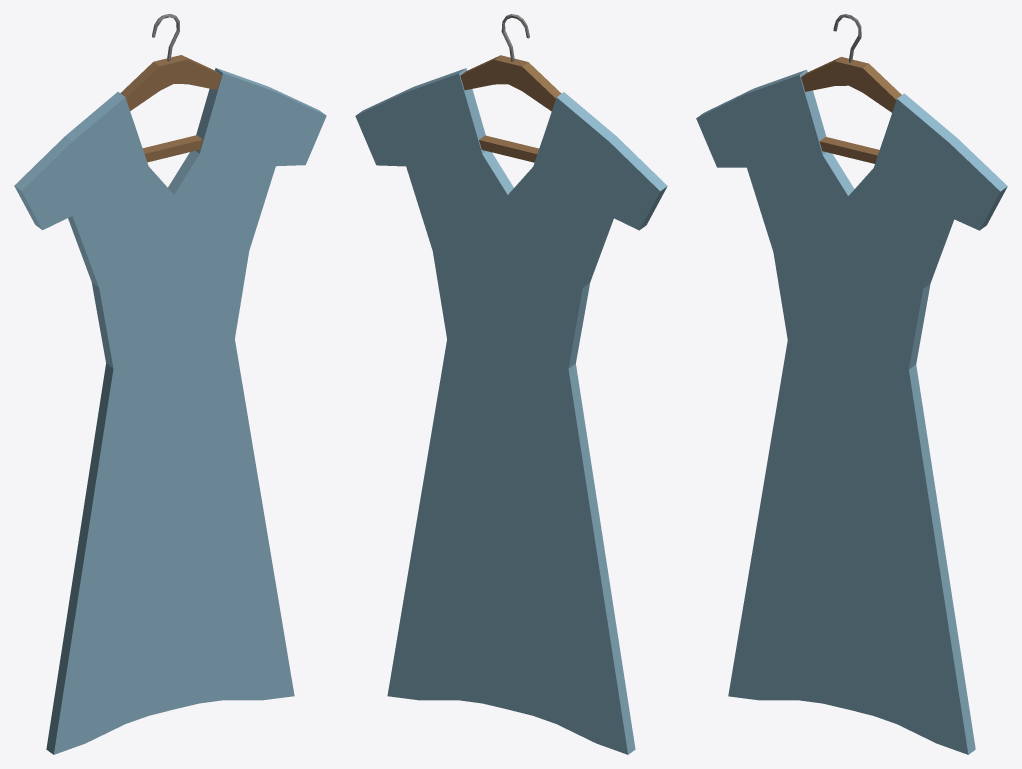
File: Clothes7_C4.fbx
The picture shows the model from 3 angles, left to right: view 1: azimuth 30°, elevation 25°; view 2: azimuth 150°, elevation 25°; view 3: azimuth 330°, elevation 25°; orthographic projection.
Parts seen in each view (by area): view 1: Clothes7_C4; view 2: Clothes7_C4; view 3: Clothes7_C4.
Part boxes in pixels (left/top/right/bottom): Clothes7_C4: left=14, top=14, right=326, bottom=754; Clothes7_C4: left=355, top=14, right=667, bottom=754; Clothes7_C4: left=696, top=14, right=1007, bottom=754.
Size of the model in its own units: 49.29 by 109 by 2.07.
